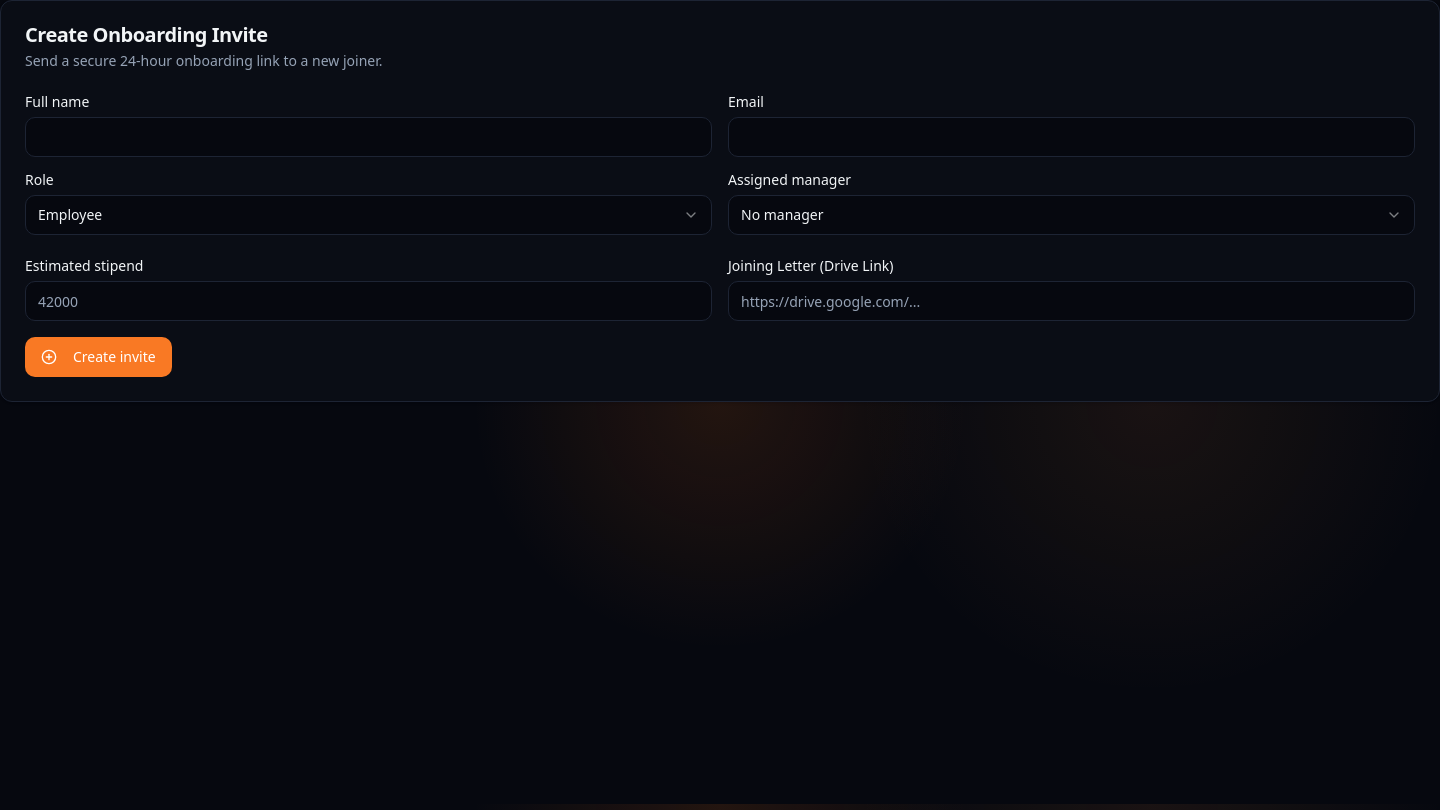
OnboardingInviteForm component › validates required fields
Click the button "Create invite" at (98, 357), box [25,337,172,377]
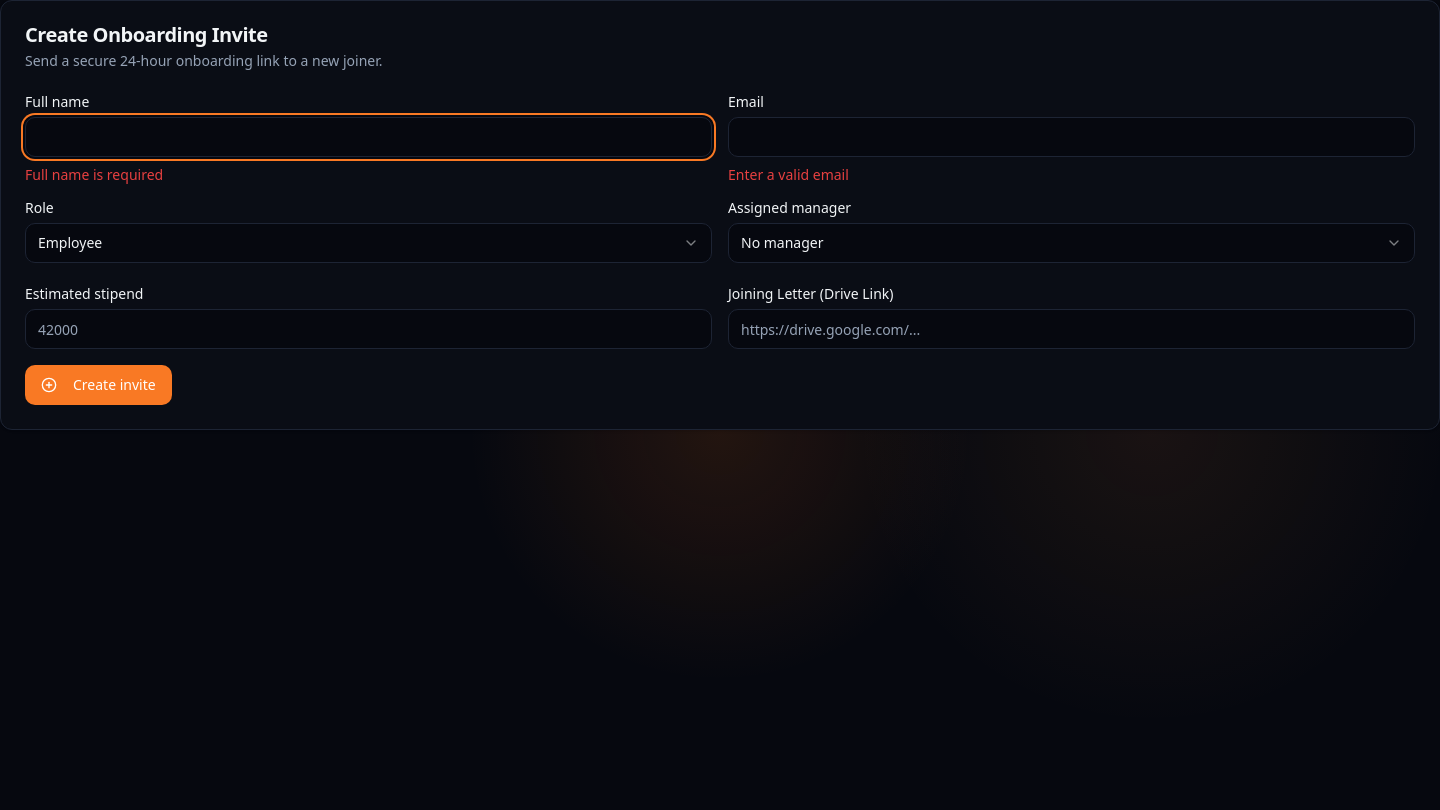
Expected: the text "Full name is required" is shown, [25,165,163,184]
Expected: the text "Enter a valid email" is shown, [728,165,849,184]
